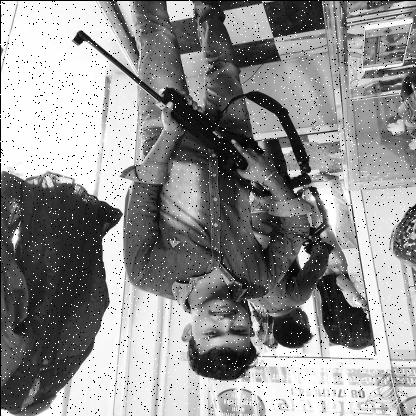rifle: (67, 27, 314, 199)
